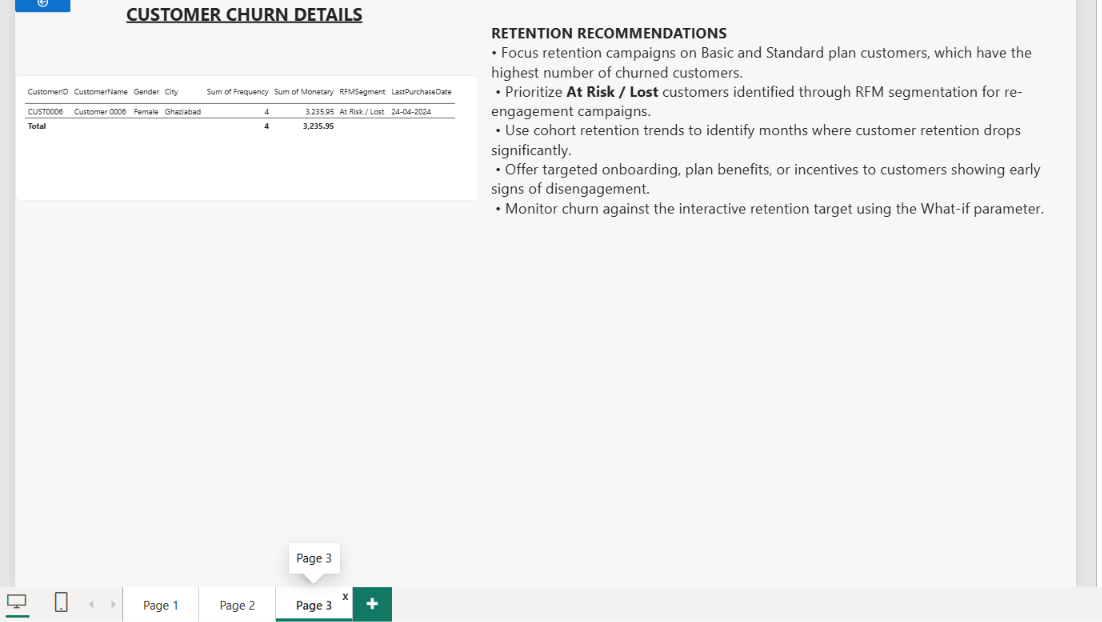

The page's visual inventory and layout, read from the dashboard file:
{"tool":"powerbi","page":{"name":"Page 3","canvas":[1920,1080],"ordinal":2},"visuals":[{"type":"actionButton","box":[0,0,100,40],"z":0},{"type":"tableEx","fields":{"Values":["DimCustomer.CustomerID","DimCustomer.CustomerName","DimCustomer.Gender","DimCustomer.City","Sum(DimCustomer.Frequency)","Sum(DimCustomer.Monetary)","DimCustomer.RFMSegment","DimCustomer.LastPurchaseDate"]},"box":[0,154,838,226],"z":1000},{"type":"textbox","box":[812,312,26,68],"z":1001},{"type":"textbox","box":[862,58,1014,998],"z":1002},{"type":"textbox","box":[116,20,598,106],"z":1003}]}

Visuals, with their boxes on the page's 1920x1080 design canvas (x1, y1, x2, y2). These are canvas units, not pixel positions in the 1102x622 screenshot, which may show the page scaled, cropped or inside an application window:
actionButton: detection(0, 0, 100, 40)
tableEx - DimCustomer.CustomerID x DimCustomer.CustomerName: detection(0, 154, 838, 380)
textbox: detection(812, 312, 838, 380)
textbox: detection(862, 58, 1876, 1056)
textbox: detection(116, 20, 714, 126)
